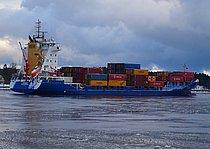Ship: (11, 60, 202, 100)
